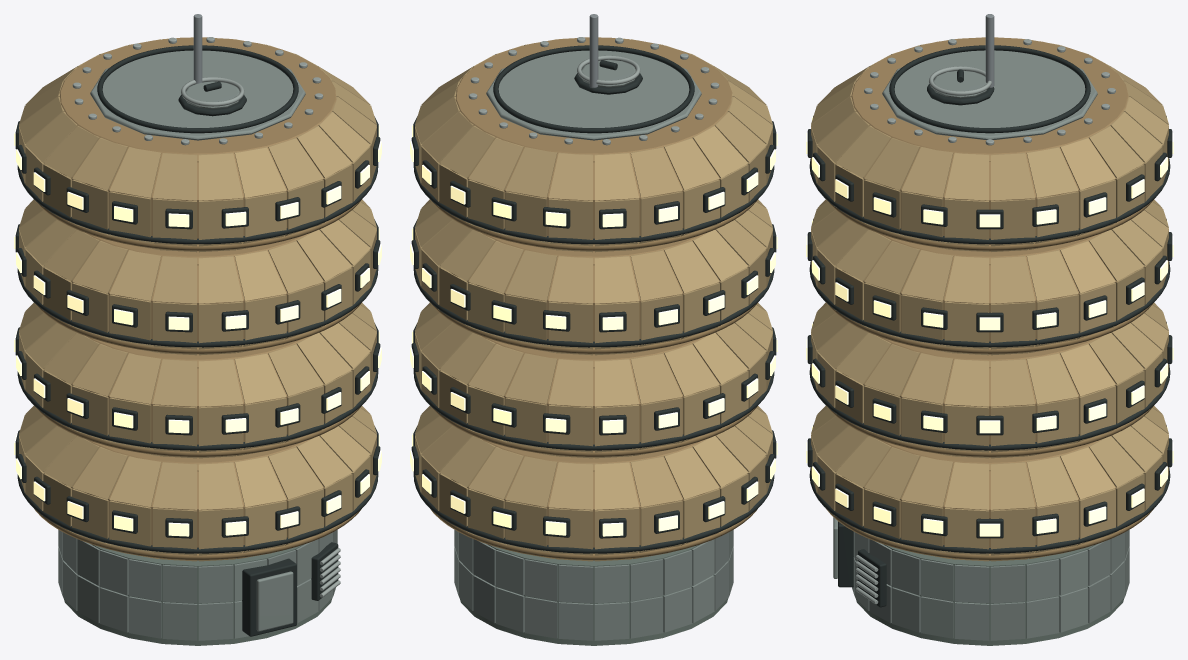
3 views of the same model, side by side, from view 1: azimuth 30°, elevation 25°; view 2: azimuth 150°, elevation 25°; view 3: azimuth 270°, elevation 25° (orthographic).
Parts seen in each view (by area): view 1: Individual curved habitation plates.003, Individual curved habitation plates.002, Individual curved habitation plates.001, Individual curved habitation plates, Segmented habitation base, Roof maintenance deck, Stacked residential saucer.003, Foundation drum, Roof aerial mounting track, Stacked residential saucer.001, Stacked residential saucer, Stacked residential saucer.002 (+15 smaller); view 2: Individual curved habitation plates.003, Individual curved habitation plates.002, Individual curved habitation plates.001, Individual curved habitation plates, Segmented habitation base, Roof maintenance deck, Stacked residential saucer.003, Foundation drum, Roof aerial mounting track, Stacked residential saucer.001, Stacked residential saucer, Stacked residential saucer.002 (+12 smaller); view 3: Individual curved habitation plates.003, Individual curved habitation plates.002, Individual curved habitation plates.001, Individual curved habitation plates, Segmented habitation base, Roof maintenance deck, Stacked residential saucer.003, Foundation drum, Roof aerial mounting track, Stacked residential saucer, Stacked residential saucer.001, Stacked residential saucer.002 (+14 smaller).
Part boxes in pixels (<box>): Individual curved habitation plates.003: <box>19,37,376,252</box>; Individual curved habitation plates.002: <box>19,199,376,355</box>; Individual curved habitation plates.001: <box>19,302,376,458</box>; Individual curved habitation plates: <box>19,406,376,561</box>; Segmented habitation base: <box>58,530,337,640</box>; Roof maintenance deck: <box>90,50,305,140</box>; Stacked residential saucer.003: <box>43,37,352,251</box>; Foundation drum: <box>63,544,332,645</box>; Roof aerial mounting track: <box>97,45,298,133</box>; Stacked residential saucer.001: <box>43,333,352,457</box>; Stacked residential saucer: <box>43,435,352,560</box>; Stacked residential saucer.002: <box>44,230,351,354</box>; Individual curved habitation plates.003: <box>415,37,772,252</box>; Individual curved habitation plates.002: <box>415,199,772,355</box>; Individual curved habitation plates.001: <box>415,302,772,458</box>; Individual curved habitation plates: <box>415,406,772,561</box>; Segmented habitation base: <box>454,530,733,640</box>; Roof maintenance deck: <box>486,50,701,140</box>; Stacked residential saucer.003: <box>439,37,748,251</box>; Foundation drum: <box>459,544,728,645</box>; Roof aerial mounting track: <box>493,45,694,133</box>; Stacked residential saucer.001: <box>439,333,748,457</box>; Stacked residential saucer: <box>439,435,748,560</box>; Stacked residential saucer.002: <box>440,230,747,354</box>; Individual curved habitation plates.003: <box>811,37,1168,251</box>; Individual curved habitation plates.002: <box>811,199,1168,355</box>; Individual curved habitation plates.001: <box>811,302,1168,458</box>; Individual curved habitation plates: <box>811,406,1168,561</box>; Segmented habitation base: <box>852,530,1129,640</box>; Roof maintenance deck: <box>882,50,1097,139</box>; Stacked residential saucer.003: <box>835,37,1144,251</box>; Foundation drum: <box>855,544,1124,645</box>; Roof aerial mounting track: <box>889,45,1090,133</box>; Stacked residential saucer: <box>835,439,1144,560</box>; Stacked residential saucer.001: <box>835,336,1144,457</box>; Stacked residential saucer.002: <box>836,232,1143,354</box>.
Bounding box in the file's own units: 1.88 × 3.22 × 1.88.
